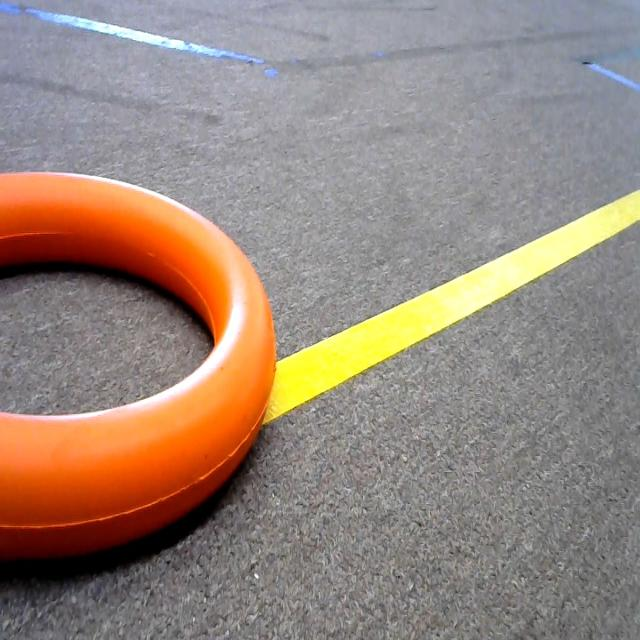note: (0, 145, 301, 582)
